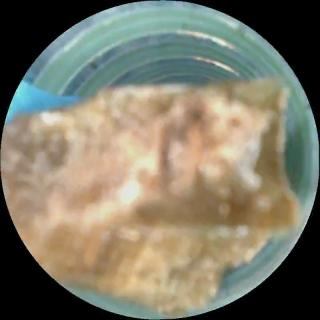fiber: (7, 84, 79, 121)
stone: (3, 81, 296, 314)
